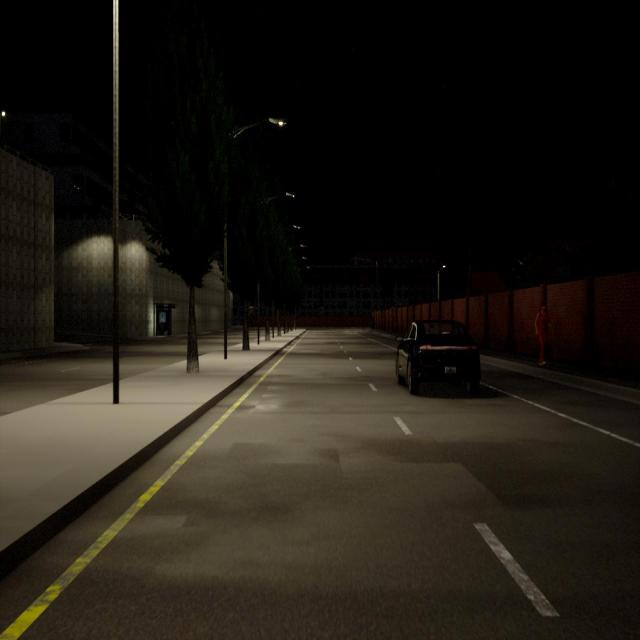Pedestrian: (535, 302, 548, 365)
Vehicle: (396, 320, 479, 393)
